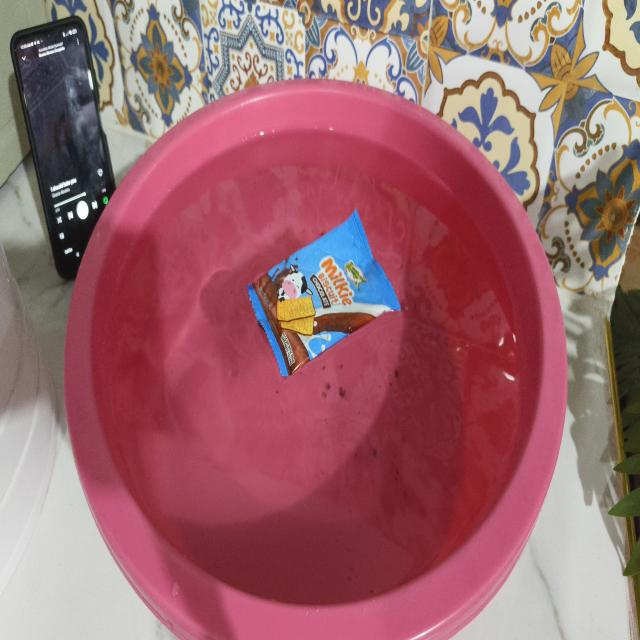Plastic Wrapper: (248, 210, 401, 374)
